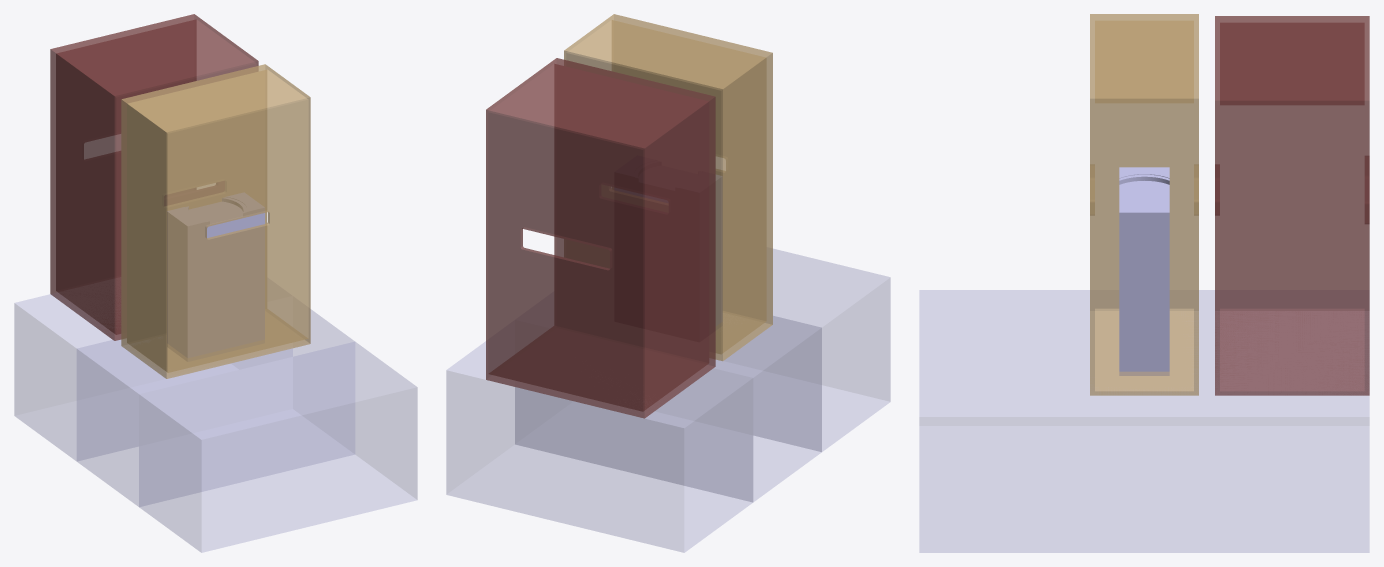
The model's file is LOADLOCK.fbx.
3 views of the same model, side by side, from view 1: azimuth 30°, elevation 25°; view 2: azimuth 150°, elevation 25°; view 3: azimuth 270°, elevation 25° (orthographic). The views are drawn at different scales.
Visible parts, largest first — view 1: LOADLOCK004, LOADLOCK002, LOADLOCK001, LOADLOCK005, LOADLOCK, LOADLOCK003; view 2: LOADLOCK005, LOADLOCK, LOADLOCK001, LOADLOCK004, LOADLOCK002, LOADLOCK003; view 3: LOADLOCK005, LOADLOCK002, LOADLOCK, LOADLOCK004, LOADLOCK001, LOADLOCK003.
Boxes of the visible parts, box(x1,y1,x2,y2) form: LOADLOCK004: box(121, 64, 310, 378); LOADLOCK002: box(139, 342, 417, 552); LOADLOCK001: box(77, 309, 354, 506); LOADLOCK005: box(50, 14, 258, 340); LOADLOCK: box(14, 293, 292, 461); LOADLOCK003: box(167, 193, 264, 358); LOADLOCK005: box(486, 58, 715, 418); LOADLOCK: box(446, 341, 752, 552); LOADLOCK001: box(515, 316, 821, 502); LOADLOCK004: box(564, 14, 772, 361); LOADLOCK002: box(715, 249, 890, 451); LOADLOCK003: box(614, 175, 722, 325); LOADLOCK005: box(1215, 16, 1369, 395); LOADLOCK002: box(919, 290, 1068, 552); LOADLOCK: box(1220, 311, 1369, 552); LOADLOCK004: box(1090, 14, 1198, 395); LOADLOCK001: box(1069, 290, 1219, 552); LOADLOCK003: box(1119, 167, 1169, 375).
Size of the model in its own units: 120 by 191 by 180.
